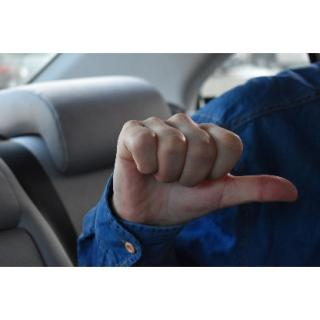DAD: (111, 112, 302, 239)
